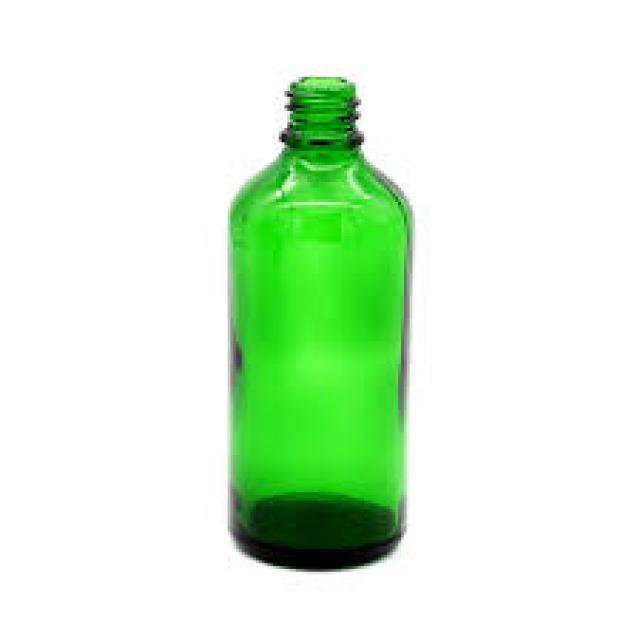glass: (230, 71, 404, 566)
